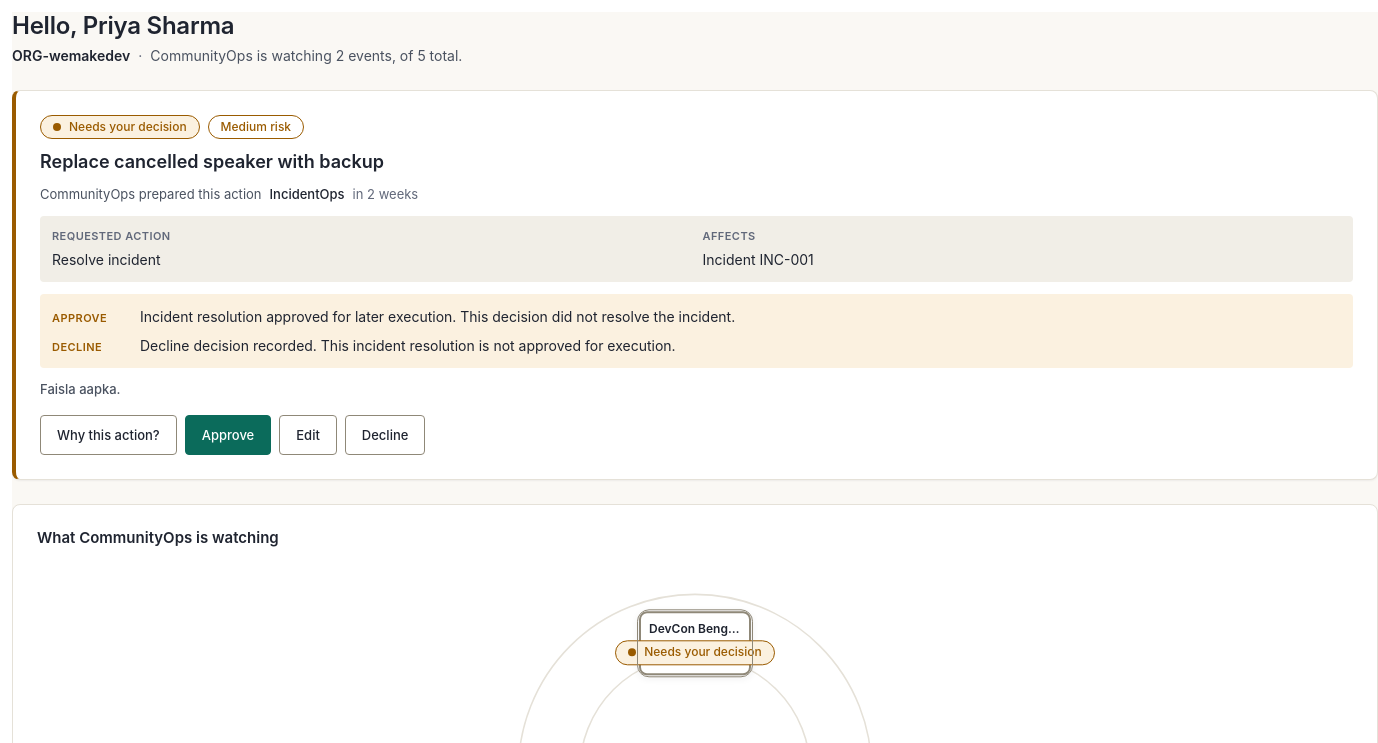
recording a decision (requirements 5.7, 13.11, 15.8, A9) › settles the card when the decision was already taken elsewhere
Check: the element "Needs your decision" is shown, box top-left (12, 90), bottom-right (1377, 480)
Click the button "Approve": coordinates (228, 435) top-left (185, 415), bottom-right (271, 455)
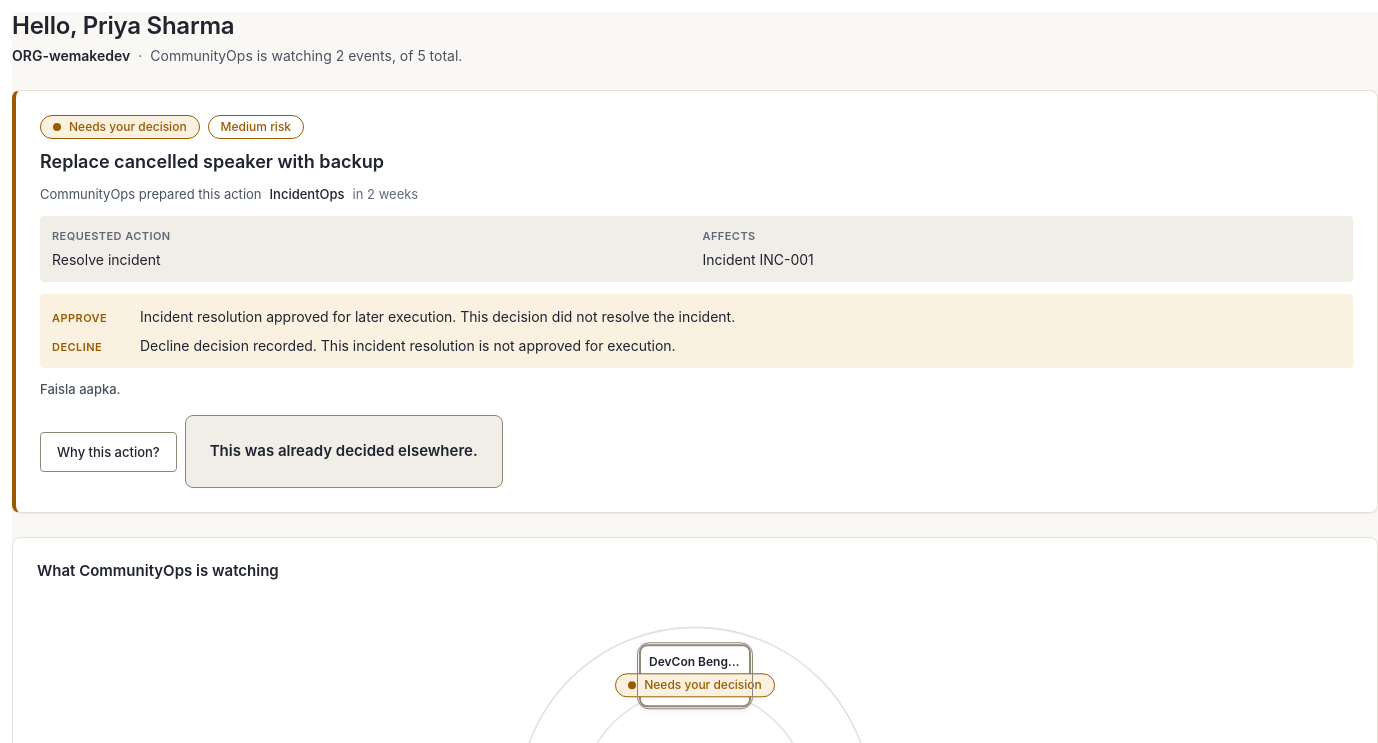
Check: the text "This was already decided elsewhere." is shown, box top-left (210, 440), bottom-right (478, 463)
